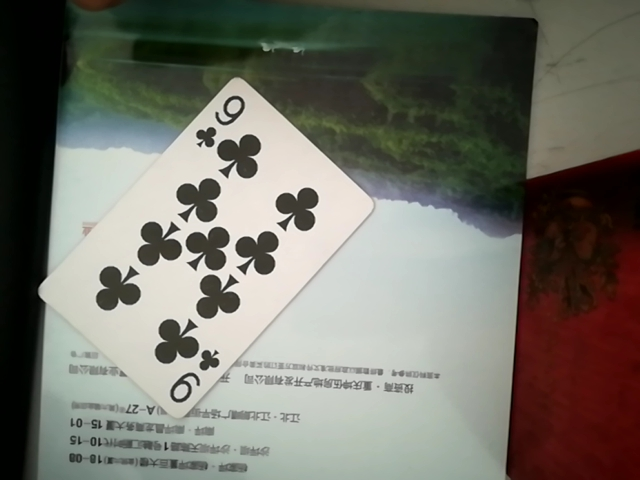mh 9: (53, 75, 375, 416)
